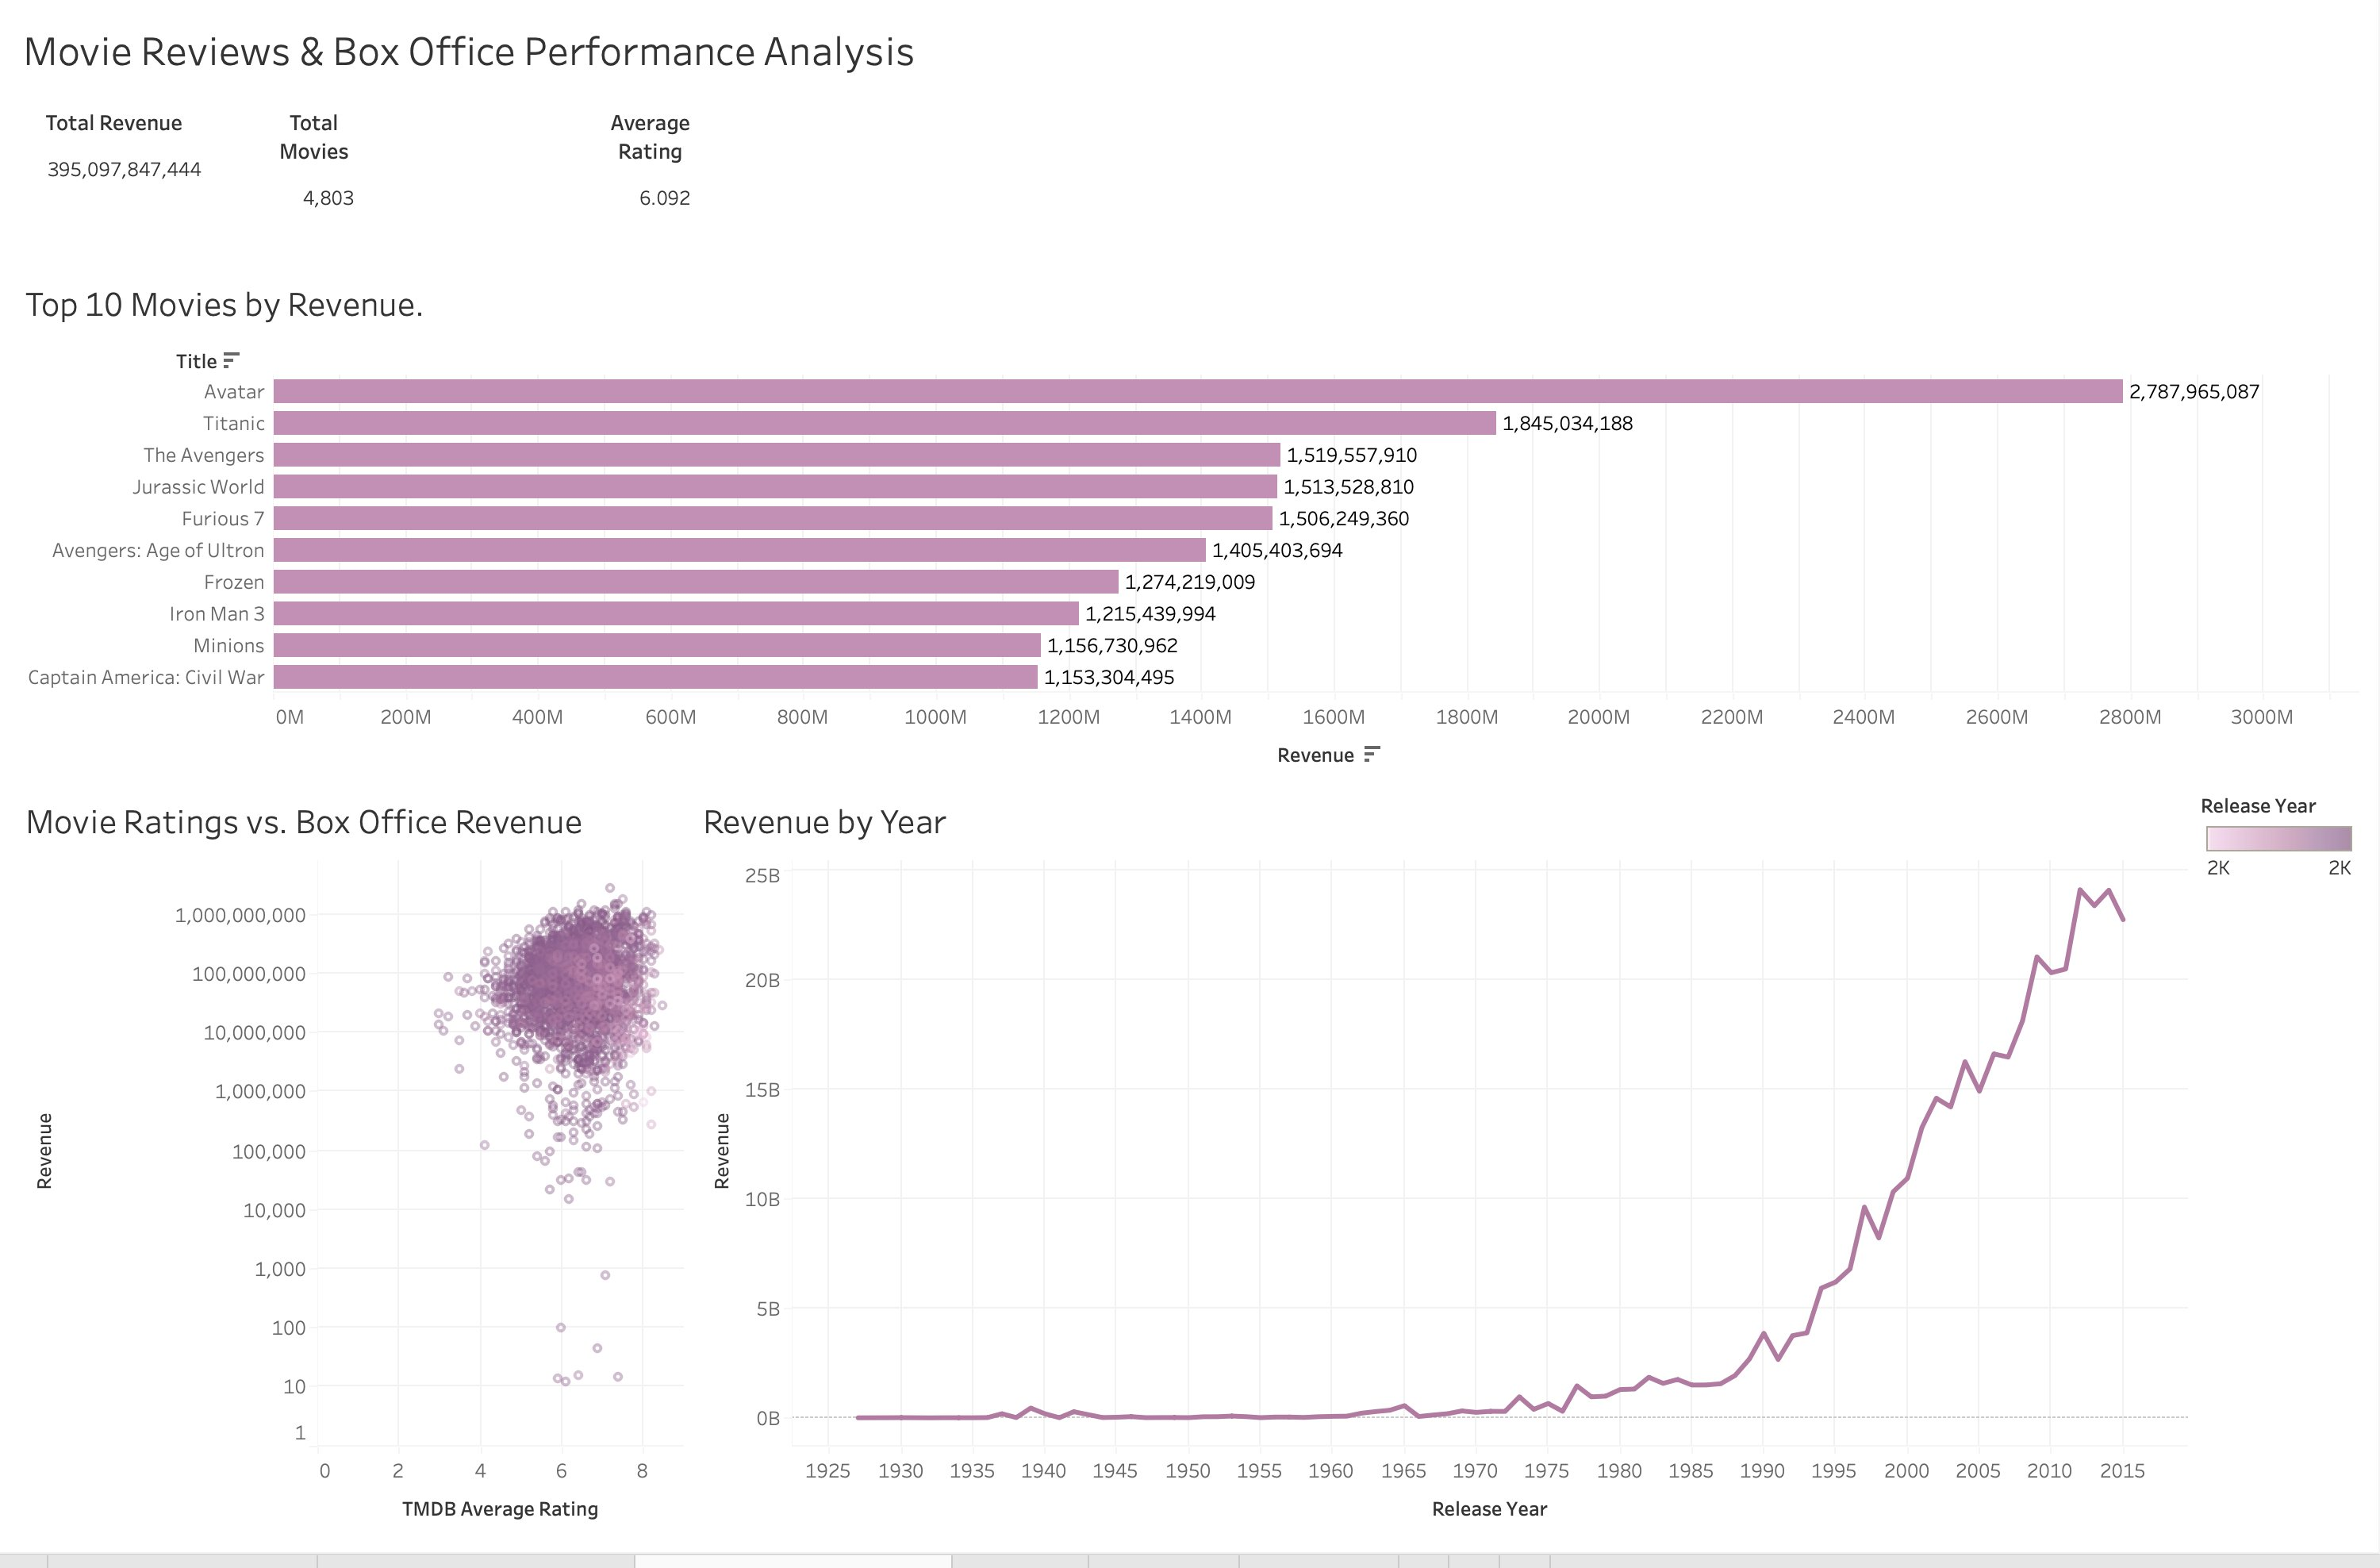

The page's visual inventory and layout, read from the dashboard file:
{"tool":"tableau","page":{"name":"Movie Reviews & Box Office Performance Analysis","canvas":[1000,1000],"units":"permille","ordinal":0},"visuals":[{"type":"title","box":[9.2,8.2,981.6,57]},{"type":"worksheet","title":"Total Revenue","mark":"Automatic","box":[9.2,65.2,179.3,111]},{"type":"worksheet","title":"Total Movies","mark":"Automatic","box":[188.5,65.2,243.7,111]},{"type":"worksheet","title":"Average Rating","mark":"Automatic","box":[432.2,65.2,349.4,111]},{"type":"worksheet","title":"Top 10 Movies by Revenue.","mark":"Automatic","rows":["title"],"cols":["revenue"],"box":[9.2,176.2,981.6,332]},{"type":"worksheet","title":"Movie Ratings vs. Box Office Revenue","mark":"Shape","rows":["revenue"],"cols":["vote_average"],"box":[9.2,508.2,490.8,483.7]},{"type":"worksheet","title":"Revenue by Year","mark":"Automatic","rows":["revenue"],"cols":["release_year"],"box":[500,508.2,366.7,483.7]},{"type":"legend","title":"Movie Ratings vs. Box Office Revenue","param":"[federated.150jvuu0emx06m1avp0eb1fwbsfq].[none:release_year:qk]","box":[866.7,508.2,124.1,66.2]}]}

Visuals, with their boxes on the dashboard's canvas, which has no fixed pixel size, in thousandths of its width and height (x1, y1, x2, y2). These are canvas units, not pixel positions in the 2380x1568 screenshot, which may show the page scaled, cropped or inside an application window:
title: BBox(9, 8, 991, 65)
"Total Revenue" worksheet: BBox(9, 65, 188, 176)
"Total Movies" worksheet: BBox(188, 65, 432, 176)
"Average Rating" worksheet: BBox(432, 65, 782, 176)
"Top 10 Movies by Revenue." worksheet: BBox(9, 176, 991, 508)
"Movie Ratings vs. Box Office Revenue" worksheet (Shape marks): BBox(9, 508, 500, 992)
"Revenue by Year" worksheet: BBox(500, 508, 867, 992)
"Movie Ratings vs. Box Office Revenue" legend: BBox(867, 508, 991, 574)
